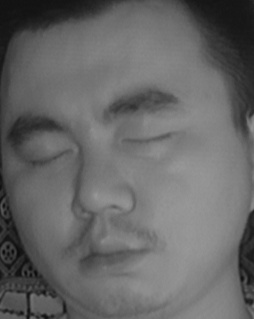blink: (24, 138, 75, 177), (120, 119, 171, 158)
mouth: (71, 224, 156, 281)
